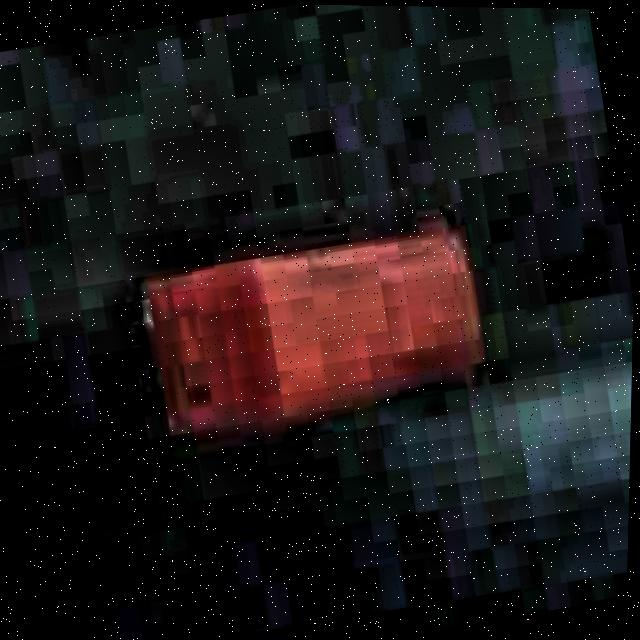bus: (117, 193, 505, 459)
